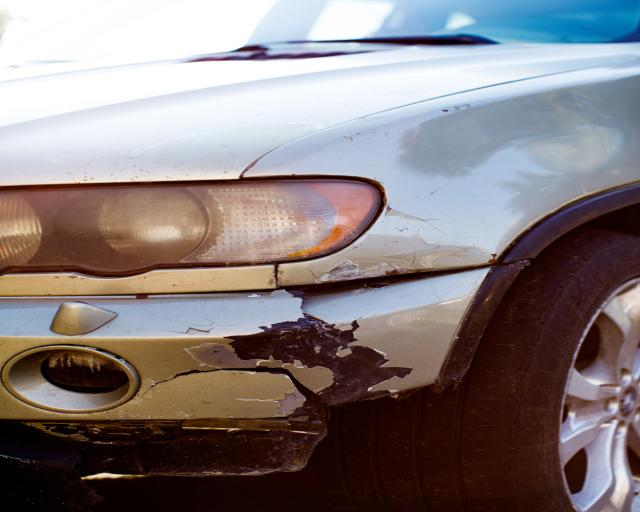crack: (142, 367, 317, 398), (281, 288, 306, 316)
dent: (522, 87, 625, 170)
scratch: (192, 316, 414, 401)
